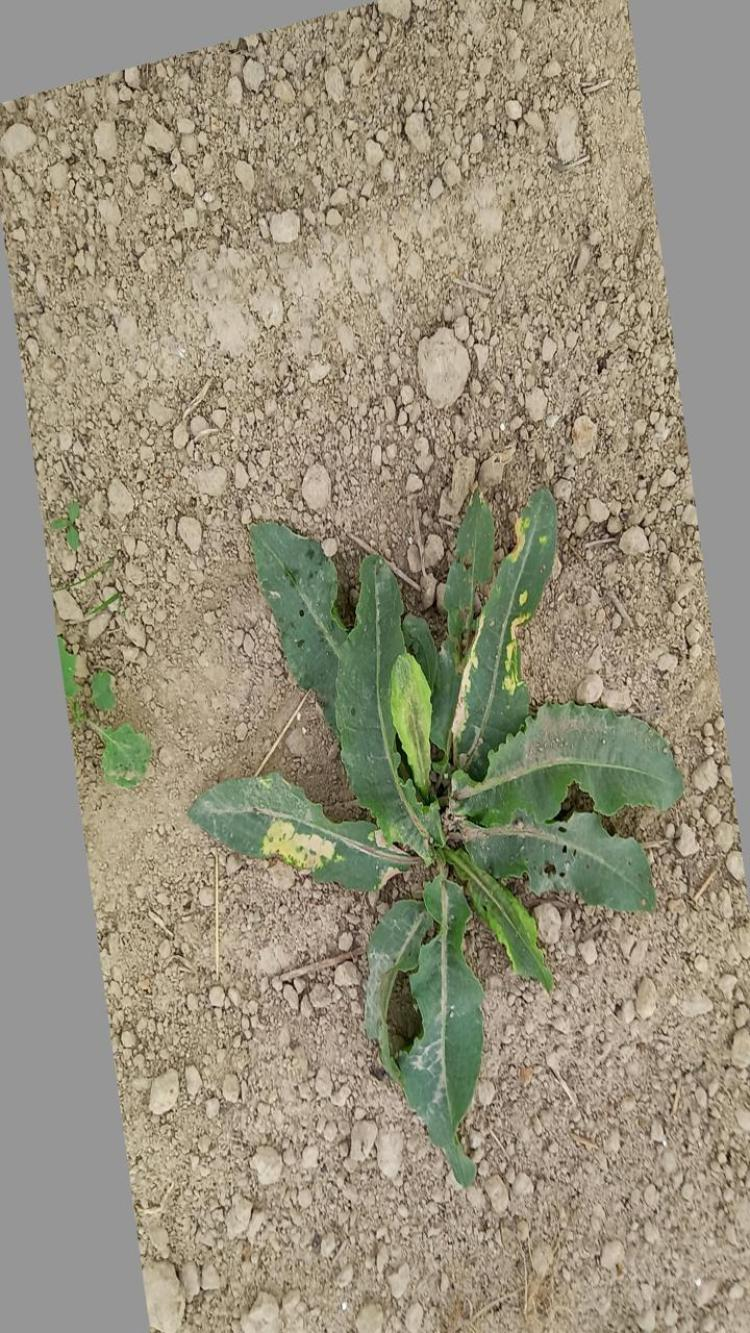zhavel: (181, 484, 688, 1192)
